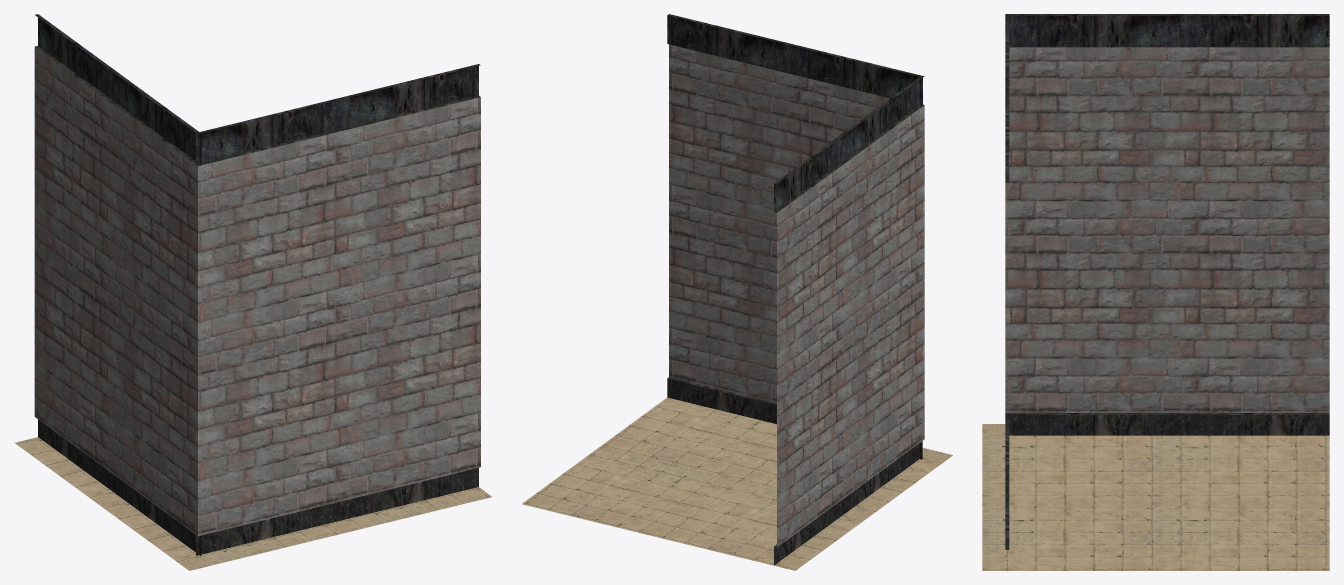
The model's file is ts001icg001.obj.
3 renders of one model, left to right at view 1: azimuth 30°, elevation 25°; view 2: azimuth 150°, elevation 25°; view 3: azimuth 270°, elevation 25°, orthographic. The views are drawn at different scales.
Parts seen in each view (by area): view 1: Box108; view 2: Box108; view 3: Box108.
Boxes of the visible parts, x1,y1,x2,y2 form: Box108: (14, 14, 491, 570); Box108: (522, 14, 952, 570); Box108: (982, 14, 1329, 570).
Bounding box in the file's own units: 3 × 4 × 3.
3 materials, 3 textured.
